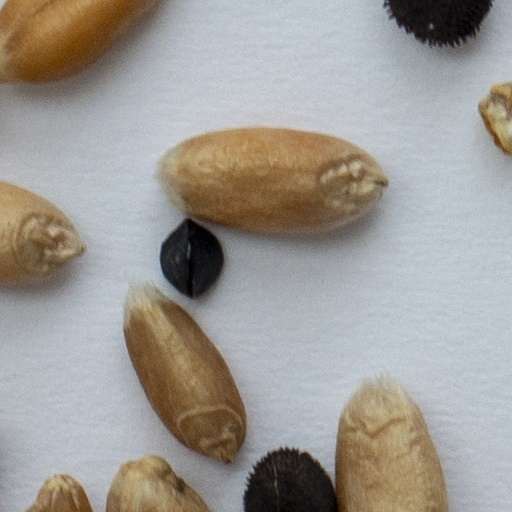Wheat-grain-damaged-poly: (473, 79, 511, 159)
